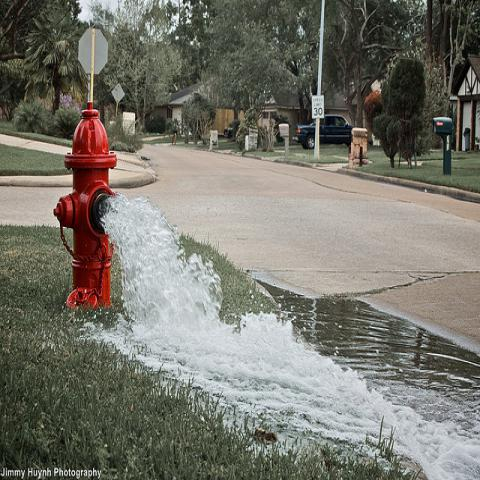car: (294, 115, 353, 151), (223, 127, 233, 140)
